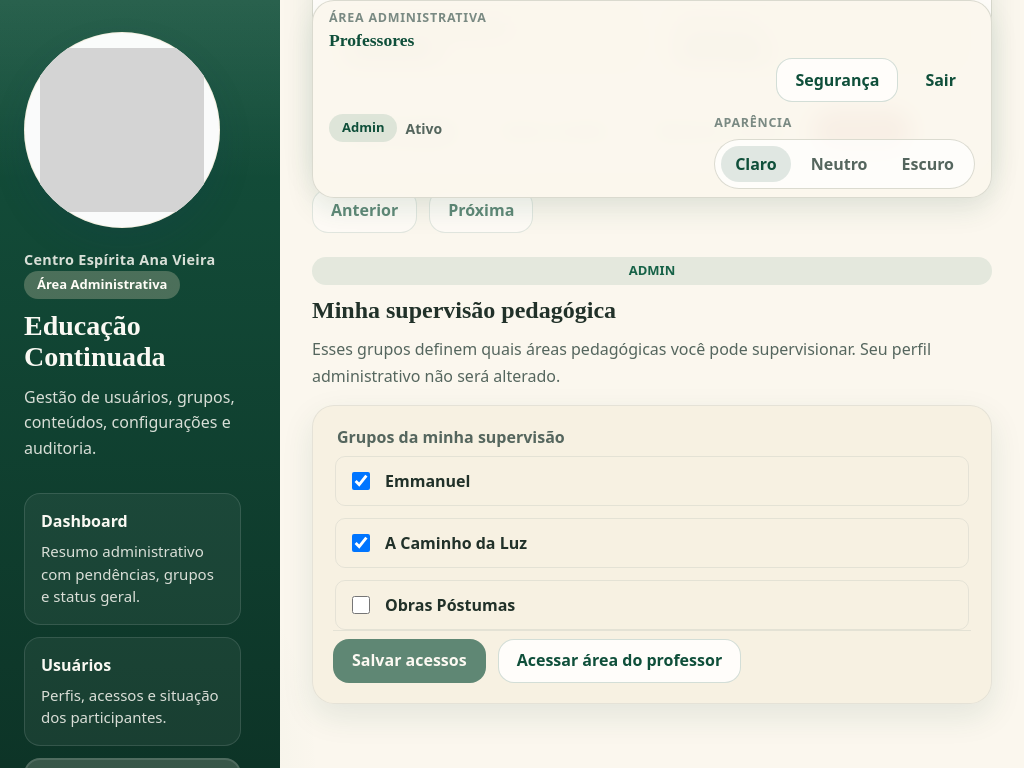
AdminTeachersPage › permite ADMIN remover todos os grupos da própria supervisão pedagógica
(page scrolled)
Expected: the checkbox labelled "A Caminho da Luz" is checked, [352,534,370,552]
Click the checkbox labelled "Emmanuel": (361, 481) [352,472,370,490]
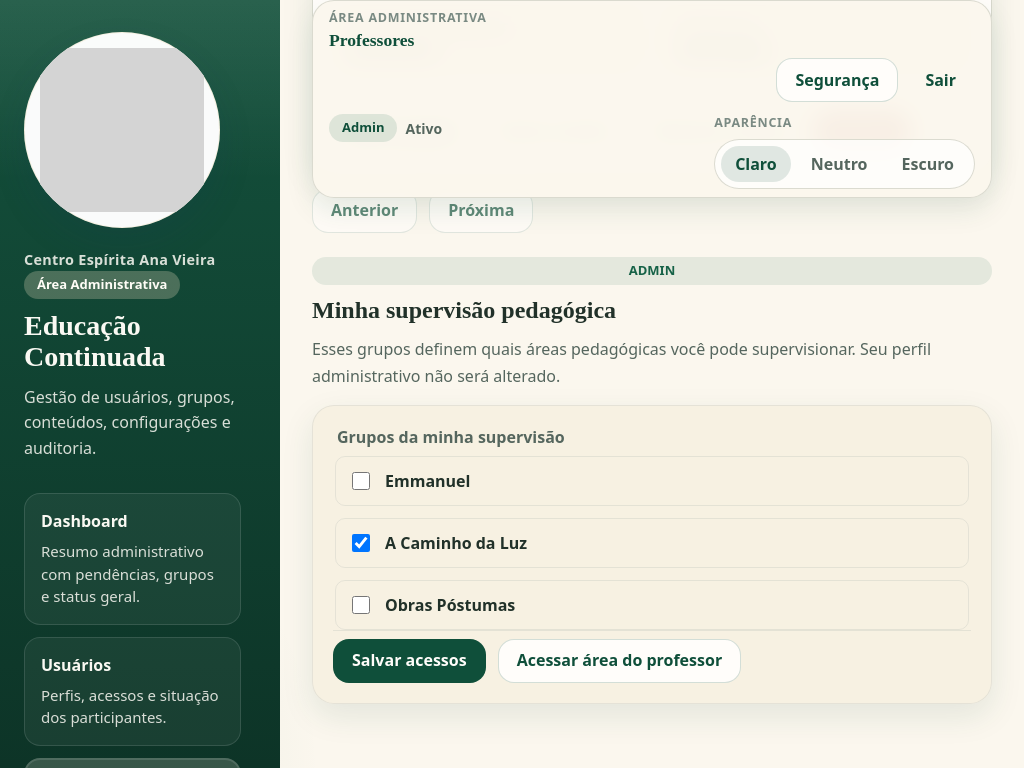
Click the checkbox labelled "A Caminho da Luz": (361, 543) [352,534,370,552]
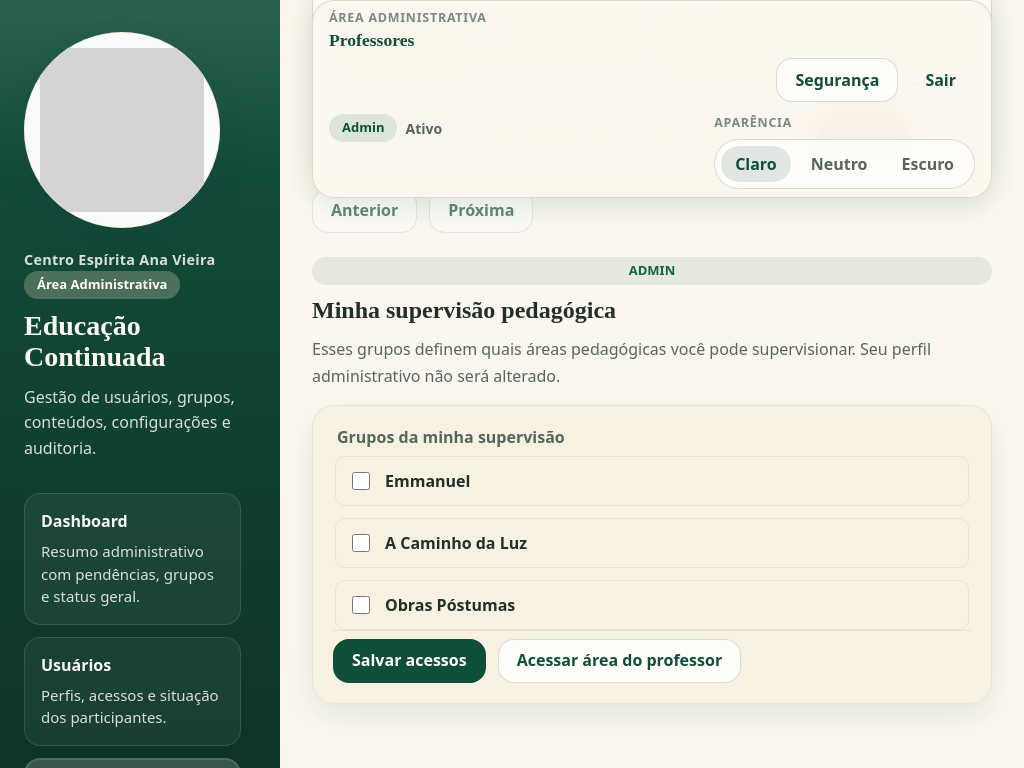
Click the button "Salvar acessos": (409, 661) [333,639,486,683]
(page scrolled)
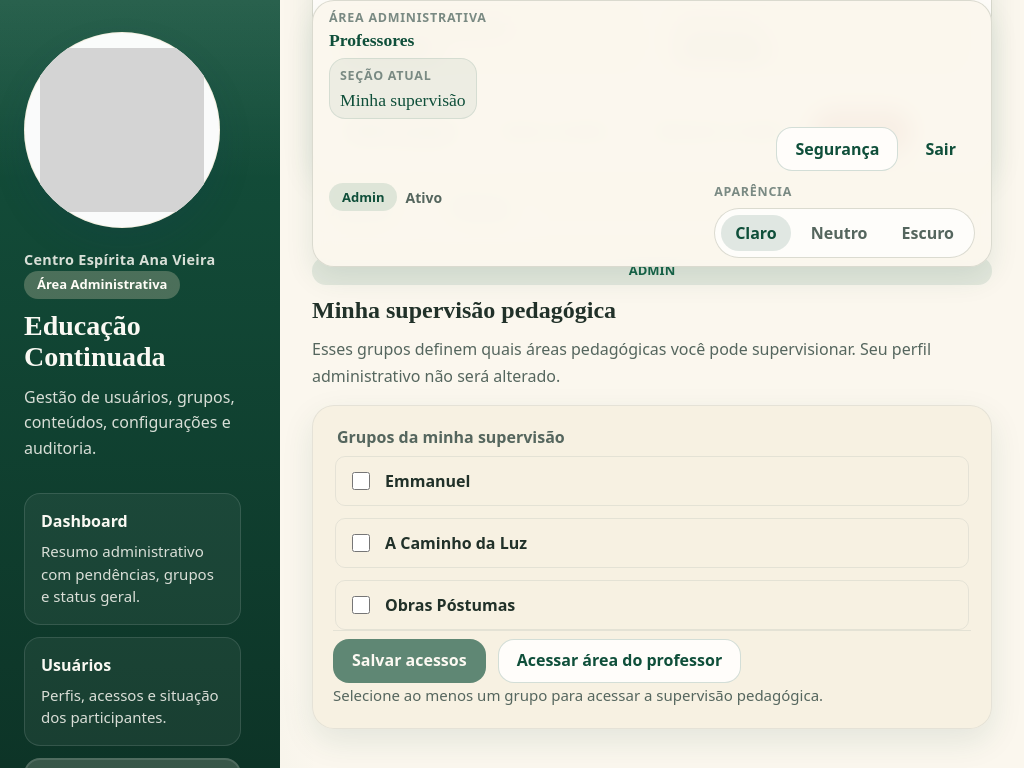
Expected: the checkbox labelled "Emmanuel" is not checked, [352,472,370,490]
Expected: the checkbox labelled "A Caminho da Luz" is not checked, [352,534,370,552]
Expected: the text "Selecione ao menos um grupo para acessar a supervisão pedagógica." is shown, [333,685,823,705]
